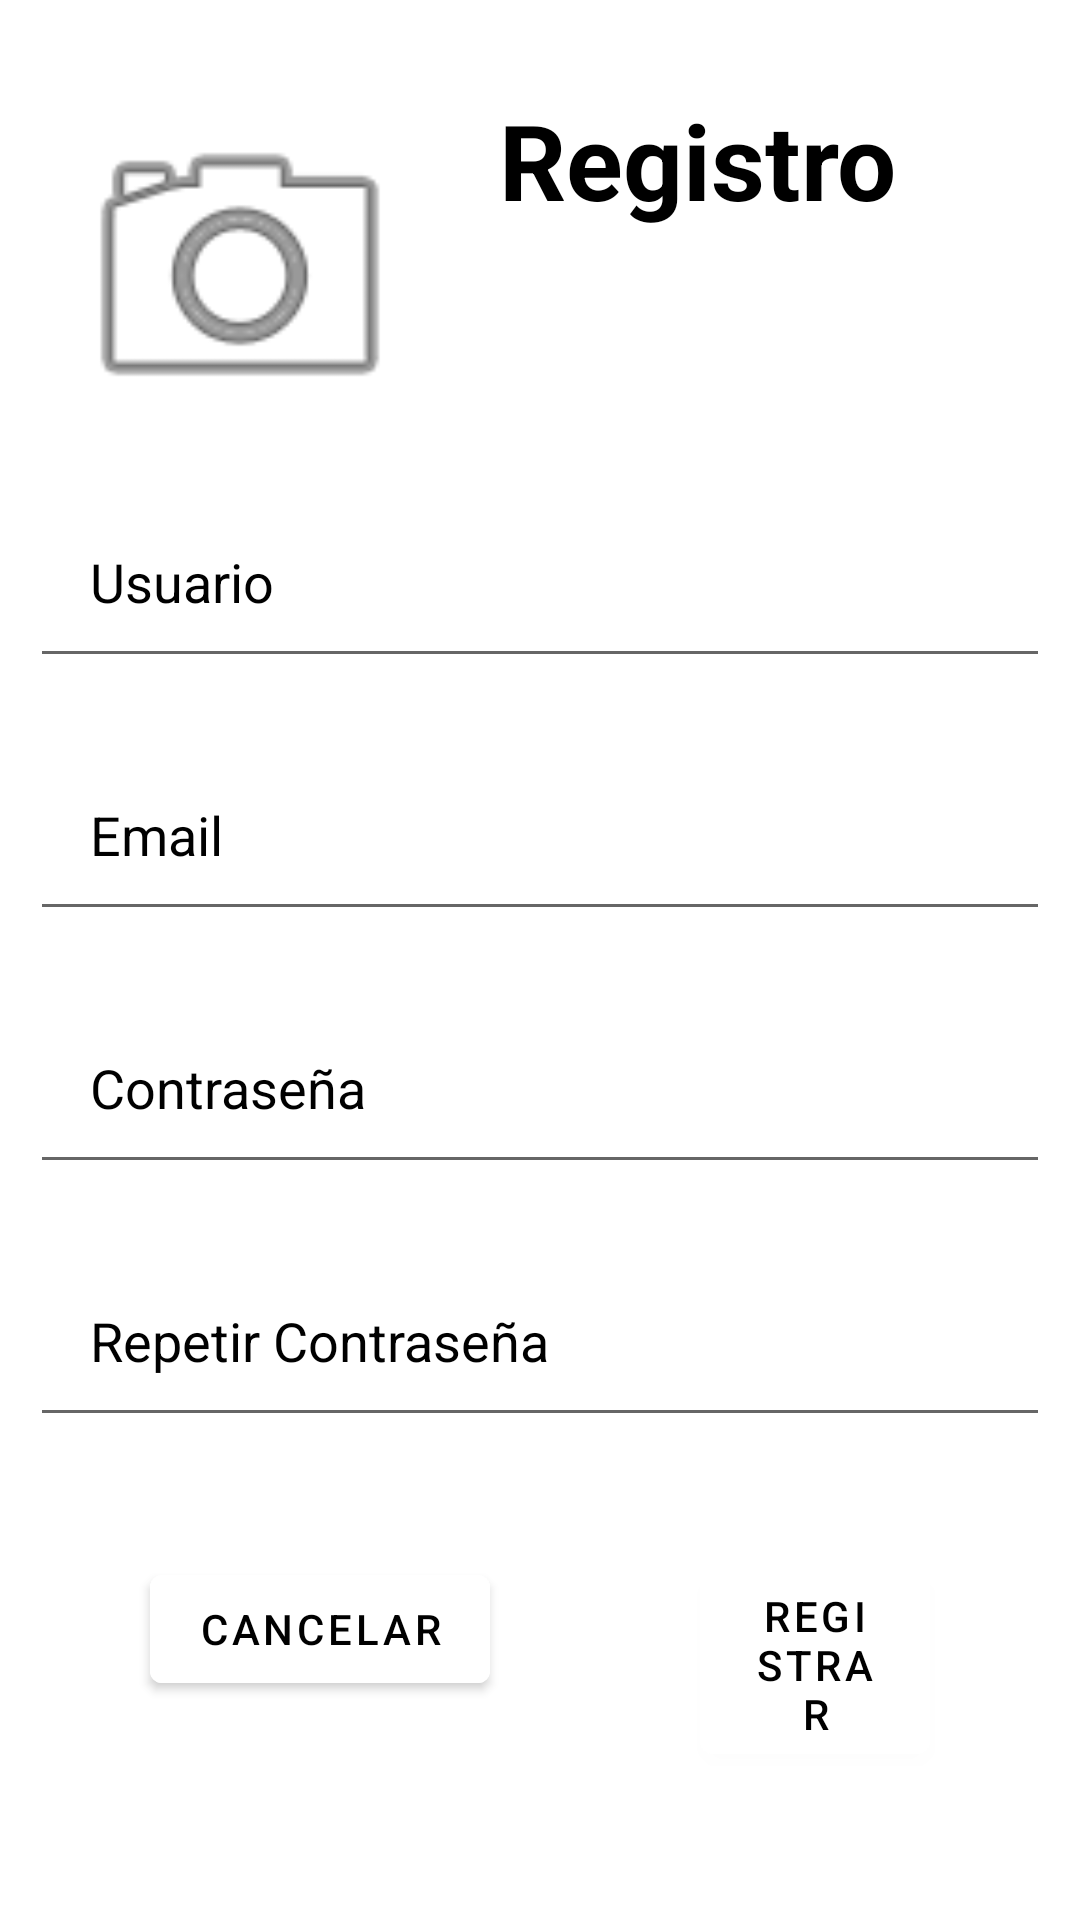

Icon bounding boxes for this 1080w x 1920h phone screenshot, format (x1, y1, x2, y2):
camera: (101, 153, 379, 375)
